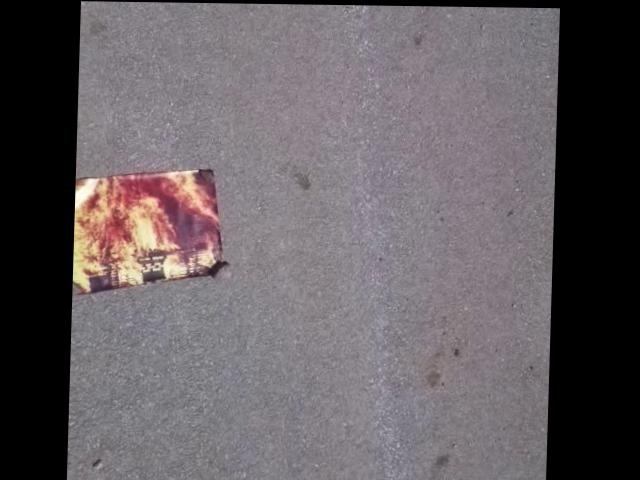fire-poster: (74, 164, 235, 299)
